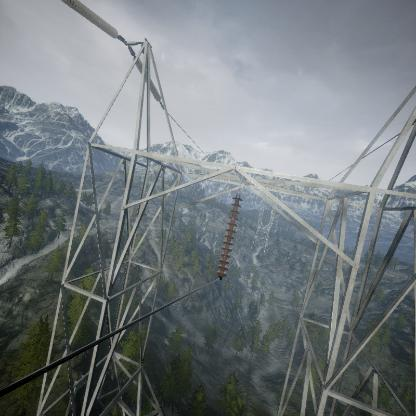insulator: (212, 192, 247, 280), (61, 0, 126, 42)
